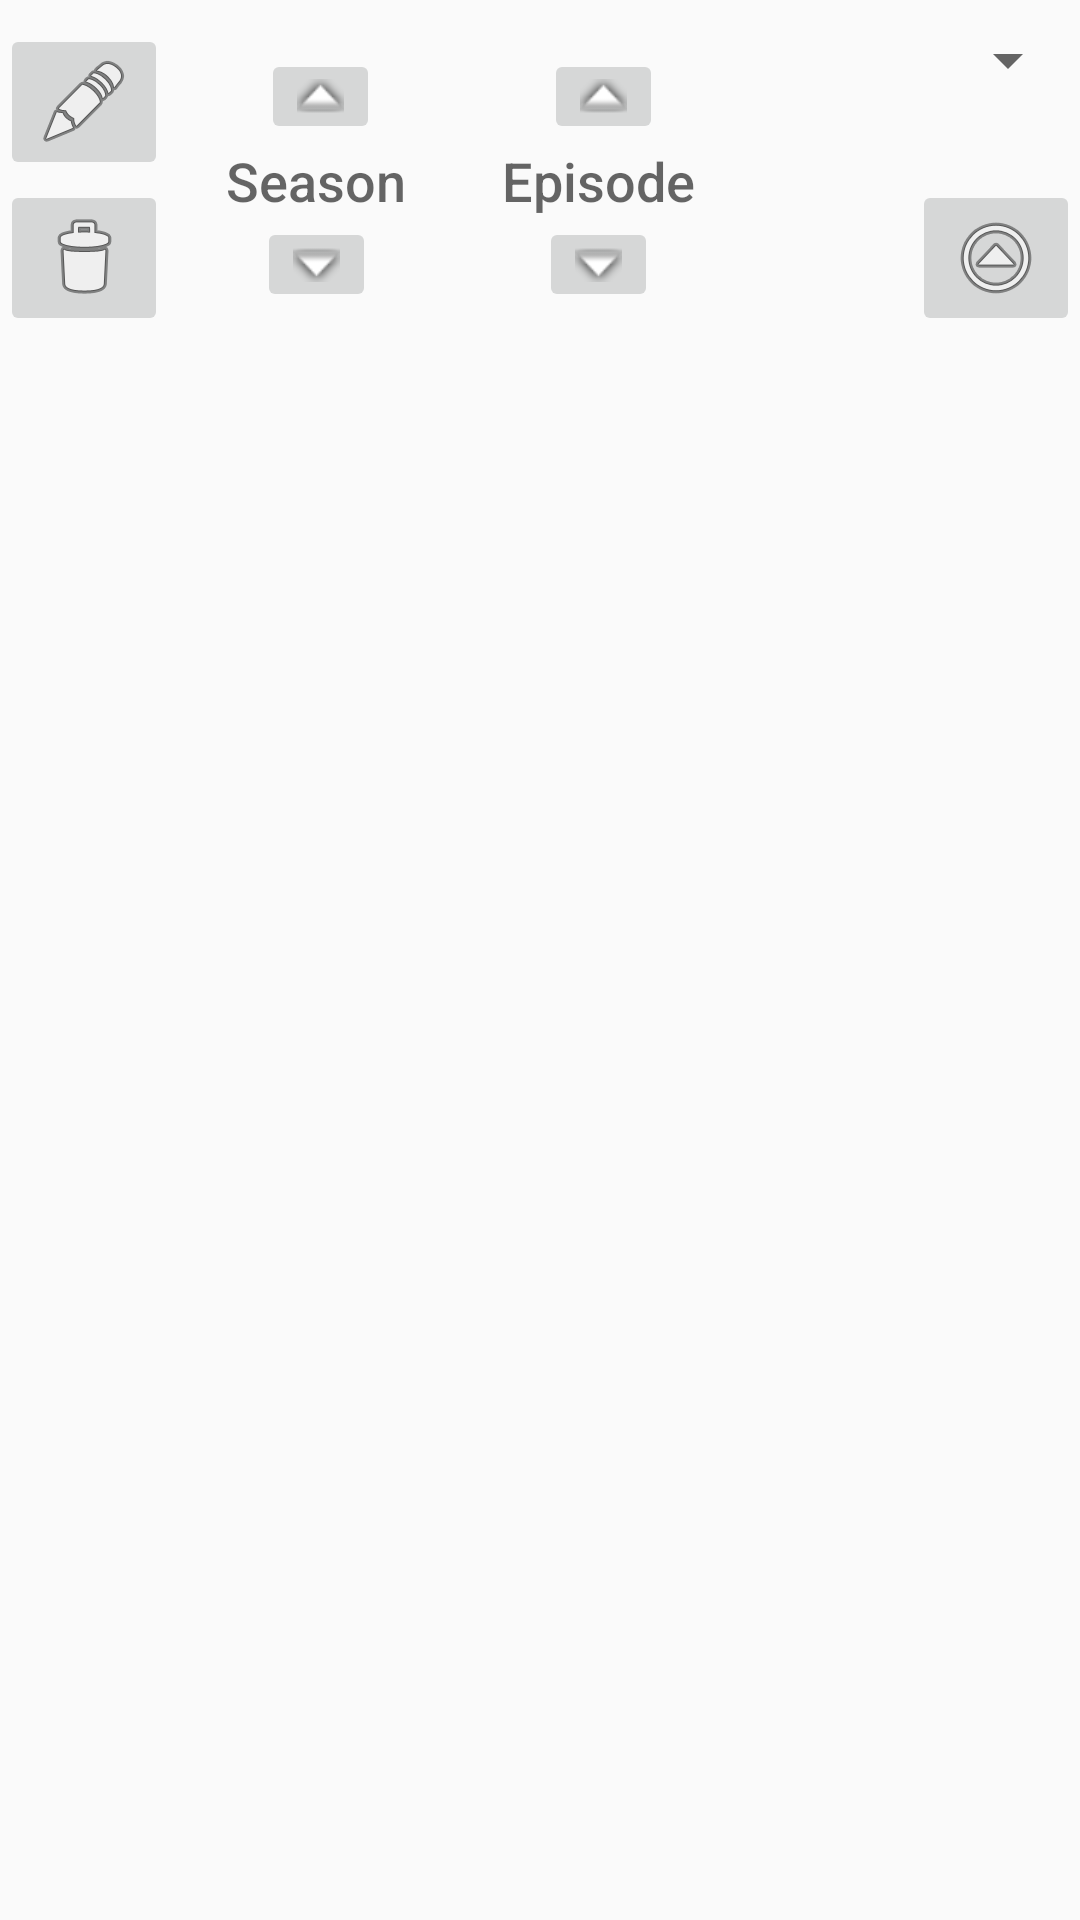

Where to tap for icons on this 1080x1920 app screen, as [x,y]:
Delete Series: [84,258]
Edit Button: [84,102]
